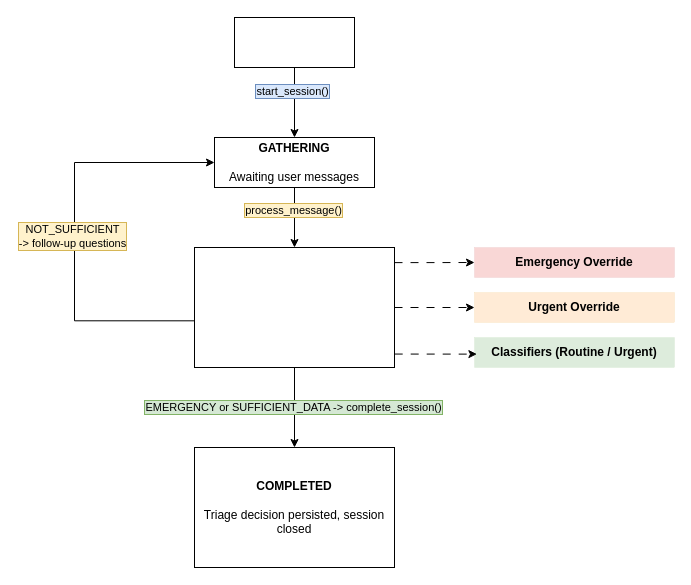
This 691x585 diagram has some shape labels left out. Here are the shapes that lost their labels. From the top down, the centre of each, then its label:
At point 294,42: "iDLE Session not started".
At point 294,307: "ANALYZING Extract -> Normalize -> Rules -> Classify".
